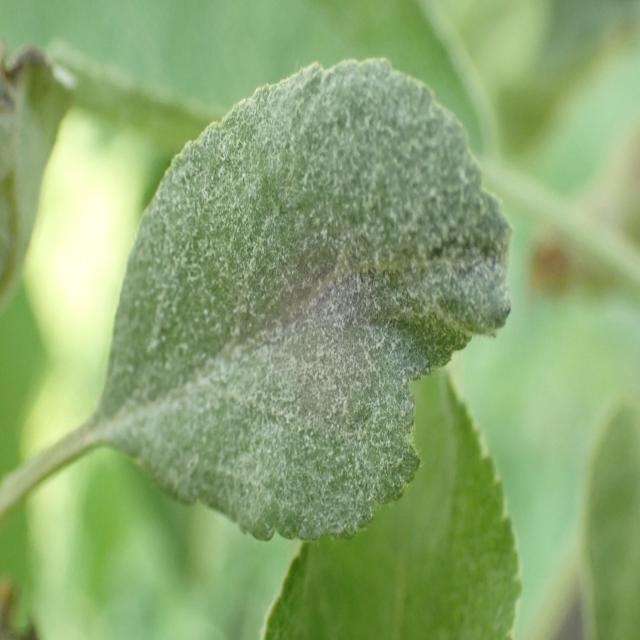Powdery_mildew: (100, 30, 524, 568)
